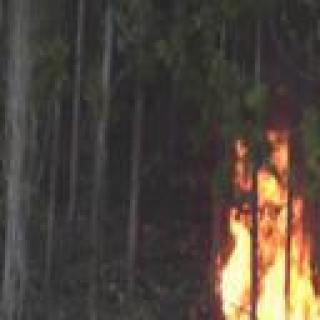fire: (163, 147, 320, 320)
